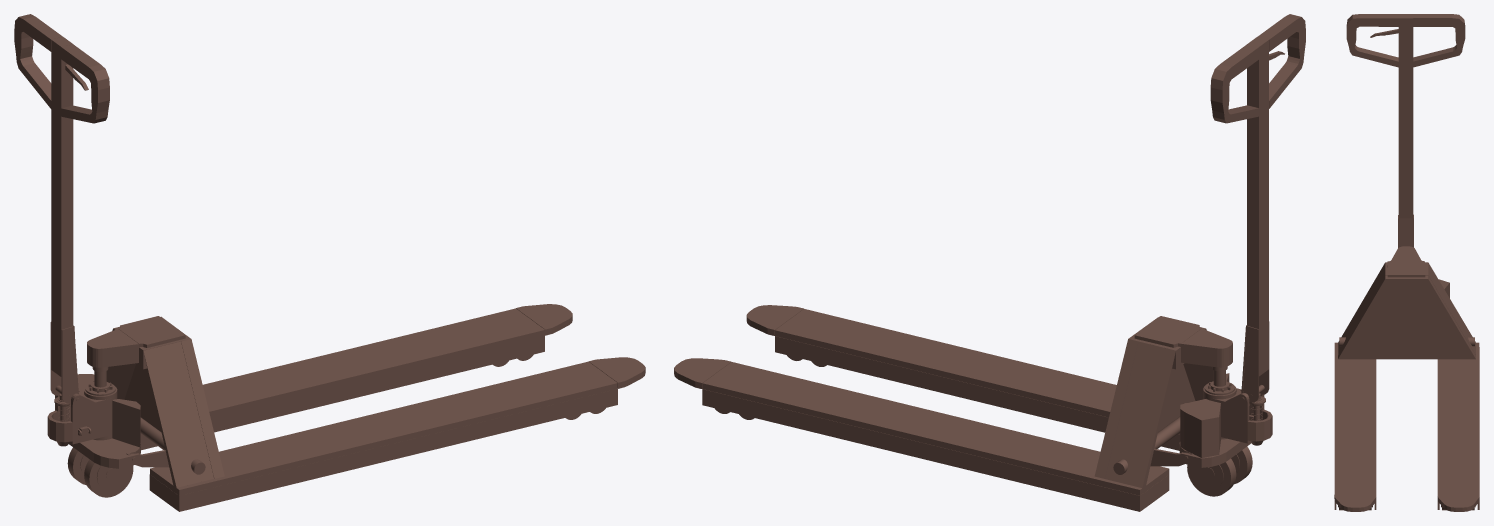
File: GCC-AAV-13220-30.nwd(1).fbx
3 views of the same model, side by side, from view 1: azimuth 30°, elevation 25°; view 2: azimuth 150°, elevation 25°; view 3: azimuth 270°, elevation 25° (orthographic). The views are drawn at different scales.
Parts seen in each view (by area): view 1: BOX 3 of EQUIPMENT /701-ME-061, BOX 6 of EQUIPMENT /701-ME-061, BOX 1 of EQUIPMENT /701-ME-061, BOX 43 of EQUIPMENT /701-ME-061, BOX 5 of EQUIPMENT /701-ME-061, EXTRUSION 9 of EQUIPMENT /701-ME-061, EXTRUSION 7 of EQUIPMENT /701-ME-061, EXTRUSION 27 of EQUIPMENT /701-ME-061, EXTRUSION 26 of EQUIPMENT /701-ME-061, EXTRUSION 17 of EQUIPMENT /701-ME-061, EXTRUSION 10 of EQUIPMENT /701-ME-061, EXTRUSION 12 of EQUIPMENT /701-ME-061 (+6 smaller); view 2: BOX 6 of EQUIPMENT /701-ME-061, BOX 3 of EQUIPMENT /701-ME-061, BOX 7 of EQUIPMENT /701-ME-061, BOX 43 of EQUIPMENT /701-ME-061, BOX 2 of EQUIPMENT /701-ME-061, EXTRUSION 8 of EQUIPMENT /701-ME-061, EXTRUSION 7 of EQUIPMENT /701-ME-061, EXTRUSION 13 of EQUIPMENT /701-ME-061, EXTRUSION 27 of EQUIPMENT /701-ME-061, EXTRUSION 26 of EQUIPMENT /701-ME-061, EXTRUSION 10 of EQUIPMENT /701-ME-061, EXTRUSION 11 of EQUIPMENT /701-ME-061 (+7 smaller); view 3: EXTRUSION 7 of EQUIPMENT /701-ME-061, BOX 3 of EQUIPMENT /701-ME-061, BOX 6 of EQUIPMENT /701-ME-061, BOX 43 of EQUIPMENT /701-ME-061, EXTRUSION 27 of EQUIPMENT /701-ME-061, EXTRUSION 26 of EQUIPMENT /701-ME-061, EXTRUSION 11 of EQUIPMENT /701-ME-061, EXTRUSION 2 of EQUIPMENT /701-ME-061, EXTRUSION 1 of EQUIPMENT /701-ME-061, EXTRUSION 8 of EQUIPMENT /701-ME-061, EXTRUSION 9 of EQUIPMENT /701-ME-061, EXTRUSION 25 of EQUIPMENT /701-ME-061 (+1 smaller).
Part boxes in pixels (bbox=[...]): BOX 3 of EQUIPMENT /701-ME-061: bbox=[150, 361, 617, 495]; BOX 6 of EQUIPMENT /701-ME-061: bbox=[141, 308, 545, 434]; BOX 1 of EQUIPMENT /701-ME-061: bbox=[178, 389, 617, 511]; BOX 43 of EQUIPMENT /701-ME-061: bbox=[51, 37, 73, 376]; BOX 5 of EQUIPMENT /701-ME-061: bbox=[140, 336, 544, 450]; EXTRUSION 9 of EQUIPMENT /701-ME-061: bbox=[143, 341, 213, 488]; EXTRUSION 7 of EQUIPMENT /701-ME-061: bbox=[124, 316, 224, 478]; EXTRUSION 27 of EQUIPMENT /701-ME-061: bbox=[14, 14, 62, 108]; EXTRUSION 26 of EQUIPMENT /701-ME-061: bbox=[61, 44, 109, 123]; EXTRUSION 17 of EQUIPMENT /701-ME-061: bbox=[56, 389, 111, 444]; EXTRUSION 10 of EQUIPMENT /701-ME-061: bbox=[87, 329, 138, 367]; EXTRUSION 12 of EQUIPMENT /701-ME-061: bbox=[69, 438, 140, 468]; BOX 6 of EQUIPMENT /701-ME-061: bbox=[702, 362, 1169, 495]; BOX 3 of EQUIPMENT /701-ME-061: bbox=[775, 309, 1180, 434]; BOX 7 of EQUIPMENT /701-ME-061: bbox=[702, 389, 1141, 511]; BOX 43 of EQUIPMENT /701-ME-061: bbox=[1247, 37, 1268, 376]; BOX 2 of EQUIPMENT /701-ME-061: bbox=[775, 336, 1180, 450]; EXTRUSION 8 of EQUIPMENT /701-ME-061: bbox=[1105, 341, 1175, 488]; EXTRUSION 7 of EQUIPMENT /701-ME-061: bbox=[1094, 317, 1195, 478]; EXTRUSION 13 of EQUIPMENT /701-ME-061: bbox=[1180, 399, 1220, 457]; EXTRUSION 27 of EQUIPMENT /701-ME-061: bbox=[1210, 44, 1259, 123]; EXTRUSION 26 of EQUIPMENT /701-ME-061: bbox=[1257, 14, 1305, 108]; EXTRUSION 10 of EQUIPMENT /701-ME-061: bbox=[1181, 328, 1232, 367]; EXTRUSION 11 of EQUIPMENT /701-ME-061: bbox=[1134, 316, 1201, 347]; EXTRUSION 7 of EQUIPMENT /701-ME-061: bbox=[1338, 275, 1475, 359]; BOX 3 of EQUIPMENT /701-ME-061: bbox=[1334, 342, 1376, 494]; BOX 6 of EQUIPMENT /701-ME-061: bbox=[1437, 342, 1479, 494]; BOX 43 of EQUIPMENT /701-ME-061: bbox=[1398, 14, 1413, 218]; EXTRUSION 27 of EQUIPMENT /701-ME-061: bbox=[1413, 14, 1465, 67]; EXTRUSION 26 of EQUIPMENT /701-ME-061: bbox=[1346, 14, 1398, 67]; EXTRUSION 11 of EQUIPMENT /701-ME-061: bbox=[1387, 260, 1425, 277]; EXTRUSION 2 of EQUIPMENT /701-ME-061: bbox=[1437, 494, 1479, 511]; EXTRUSION 1 of EQUIPMENT /701-ME-061: bbox=[1334, 494, 1376, 511]; EXTRUSION 8 of EQUIPMENT /701-ME-061: bbox=[1428, 263, 1475, 354]; EXTRUSION 9 of EQUIPMENT /701-ME-061: bbox=[1338, 263, 1385, 354]; EXTRUSION 25 of EQUIPMENT /701-ME-061: bbox=[1398, 218, 1413, 247].
Size of the model in its own units: 60.52 by 47.53 by 19.27.
